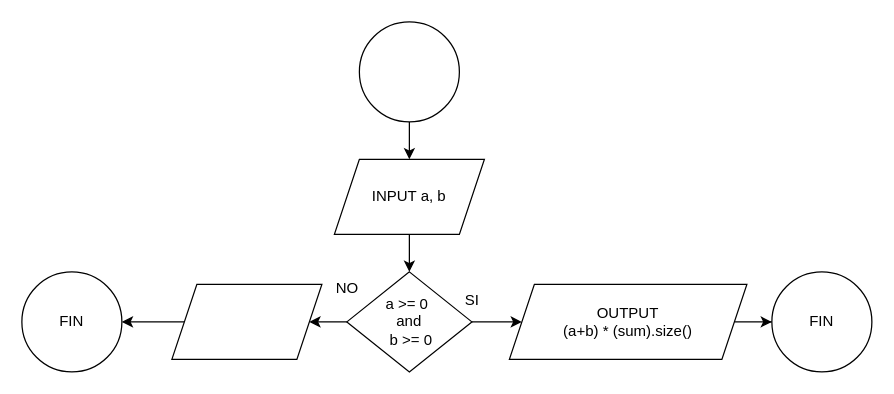
The diagram is 894 pixels wide and 394 high, and some of its shapes have lost their labels. The centre of each missing label's shape, as x and y in pixels:
INICIO: pixel 408 71
OUTPUT 0: pixel 246 321
